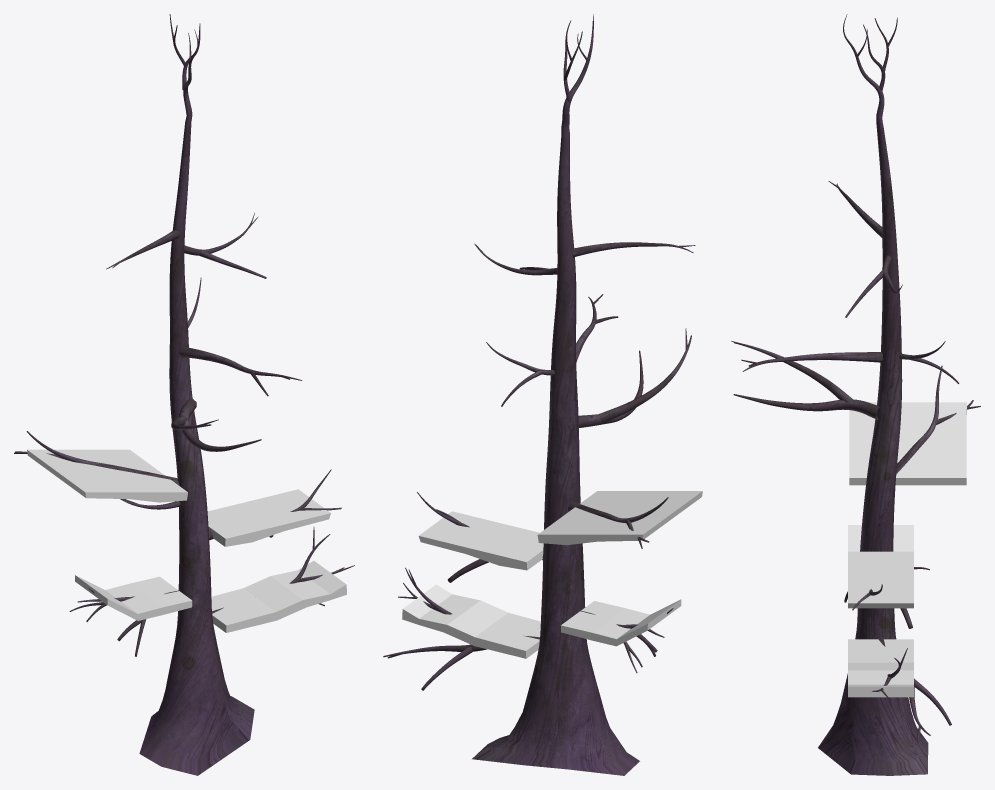
File: ArbrePLatform3 1.fbx
3 views of the same model, side by side, from view 1: azimuth 30°, elevation 25°; view 2: azimuth 150°, elevation 25°; view 3: azimuth 270°, elevation 25° (orthographic). The views are drawn at different scales.
Parts seen in each view (by area): view 1: tree, MeshBranch3.001, MeshBranch1, MeshBranch3, MeshBranch2, tree.001, Branch2; view 2: tree, MeshBranch3.001, MeshBranch1, MeshBranch3, MeshBranch2, Branch1, tree.001; view 3: tree, MeshBranch3.001, MeshBranch1, MeshBranch3, MeshBranch2, Branch1, tree.001.
Part boxes in pixels (<box>): tree: <box>106,14,302,775</box>; MeshBranch3.001: <box>27,449,187,502</box>; MeshBranch1: <box>211,561,346,632</box>; MeshBranch3: <box>207,489,330,546</box>; MeshBranch2: <box>75,575,192,620</box>; tree.001: <box>14,431,180,509</box>; Branch2: <box>69,588,179,656</box>; tree: <box>472,14,695,775</box>; MeshBranch3.001: <box>537,491,702,545</box>; MeshBranch1: <box>402,584,540,658</box>; MeshBranch3: <box>418,511,543,570</box>; MeshBranch2: <box>560,599,681,646</box>; Branch1: <box>383,567,539,690</box>; tree.001: <box>568,497,668,548</box>; tree: <box>731,14,959,775</box>; MeshBranch3.001: <box>849,402,966,485</box>; MeshBranch1: <box>848,639,913,697</box>; MeshBranch3: <box>848,551,913,608</box>; MeshBranch2: <box>848,525,913,551</box>; Branch1: <box>872,638,951,742</box>; tree.001: <box>896,365,980,473</box>.
Size of the model in its own units: 1038 by 2478 by 759.
Materials: 1 (1 with a texture image).
